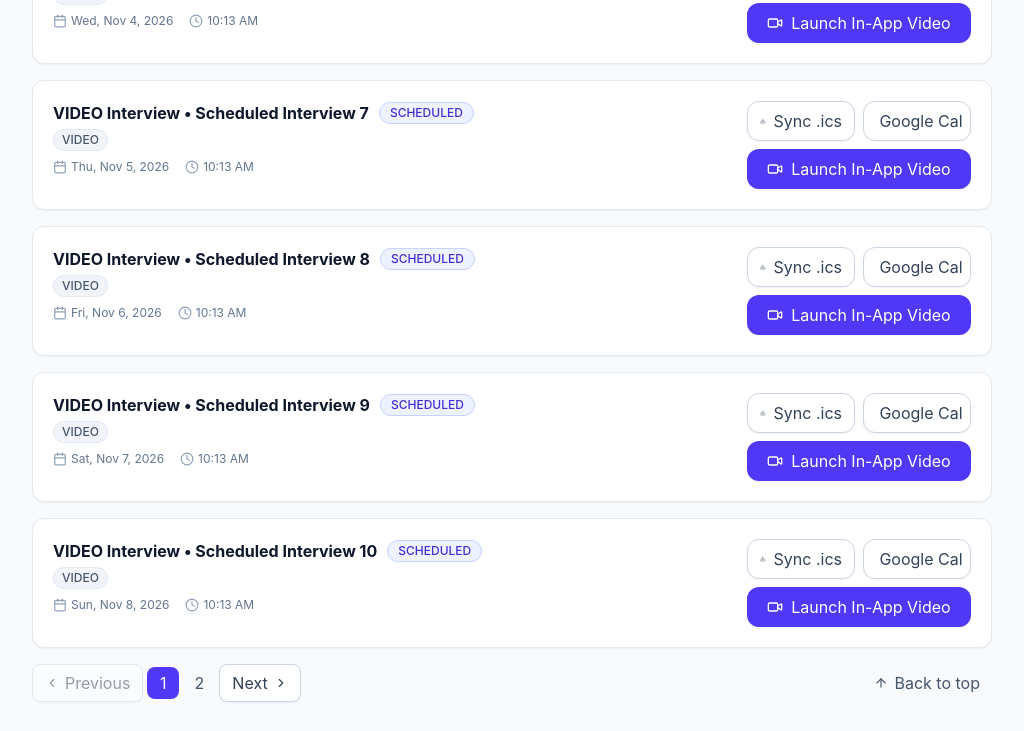
Test: InterviewsPage status tabs and pagination › shows status counts, filters interviews, and resets the page when switching tabs
This screenshot has width=1024, height=731.
(page scrolled)
Click the button with aria-label "Next page". click: (260, 683)
box: [219,664,301,702]
(page scrolled)
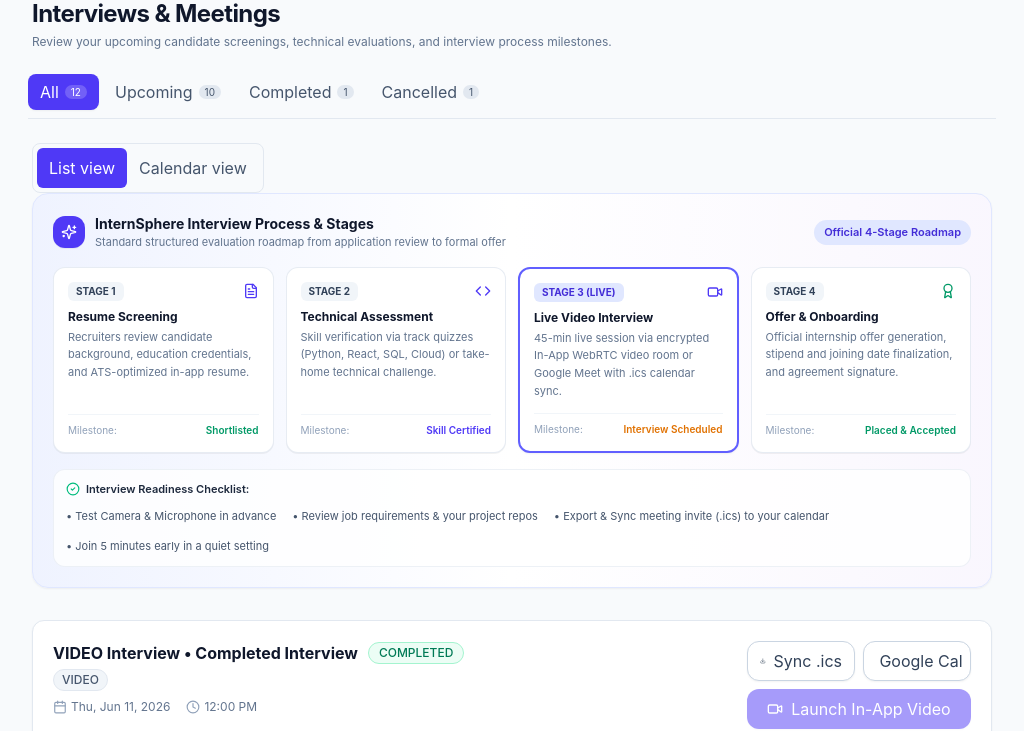
Expected: the heading "VIDEO Interview • Completed Interview" is shown, [53,641,358,665]
Click the tab "Upcoming 10". click: (168, 92)
box: [103,74,233,110]
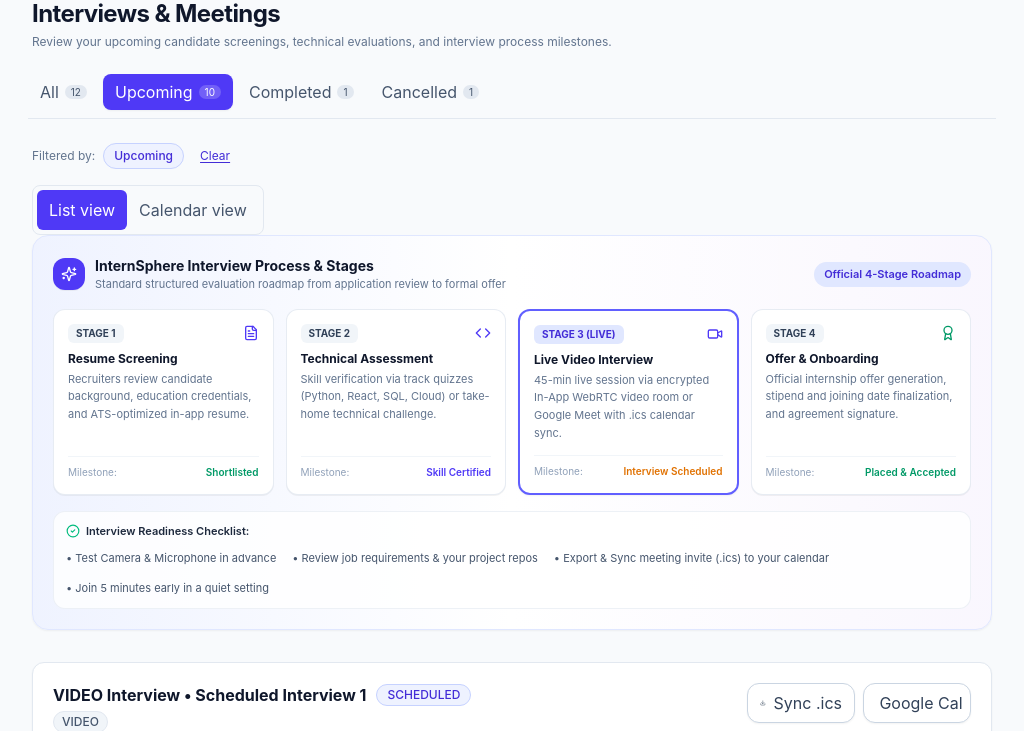
Expected: the heading "VIDEO Interview • Scheduled Interview 1" is shown, [53,683,366,707]
Expected: the heading "Completed Interview" is gone
